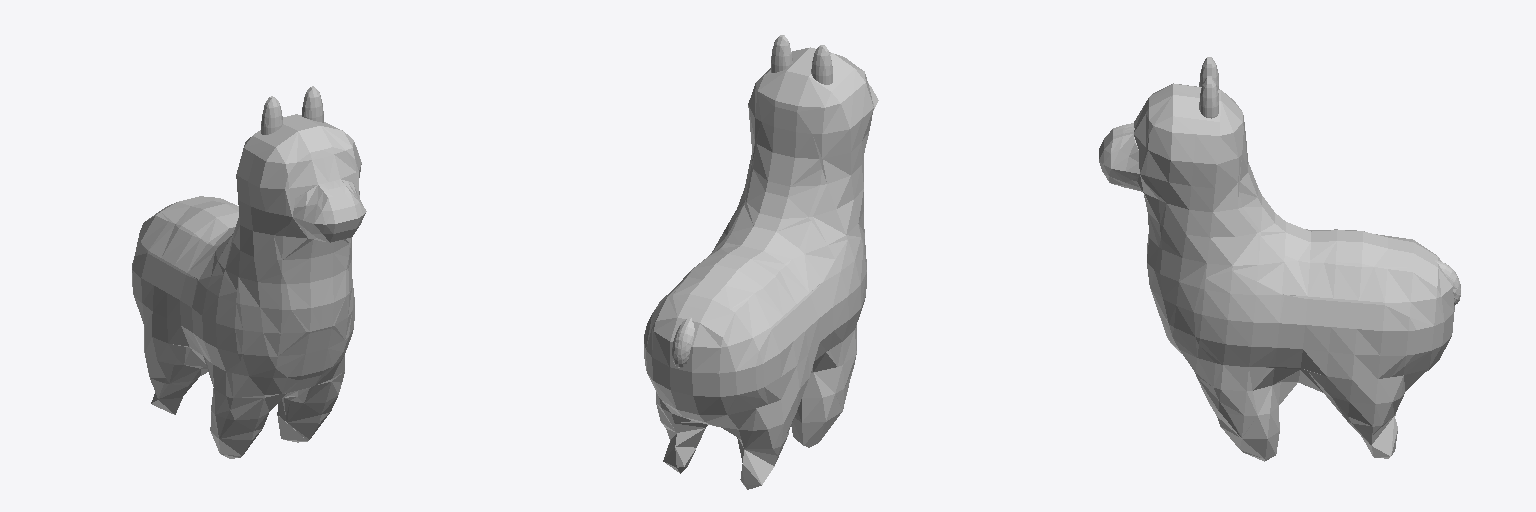
File: Alpaca.obj
3 renders of one model, left to right at view 1: azimuth 30°, elevation 25°; view 2: azimuth 150°, elevation 25°; view 3: azimuth 270°, elevation 25°, orthographic.
Visible parts, largest first — view 1: Mball.008; view 2: Mball.008; view 3: Mball.008.
Part boxes in pixels (bbox=[...]): Mball.008: bbox=[132, 86, 366, 458]; Mball.008: bbox=[644, 35, 878, 489]; Mball.008: bbox=[1099, 57, 1460, 461].
Bounding box in the file's own units: 1.57 × 4.19 × 3.64.